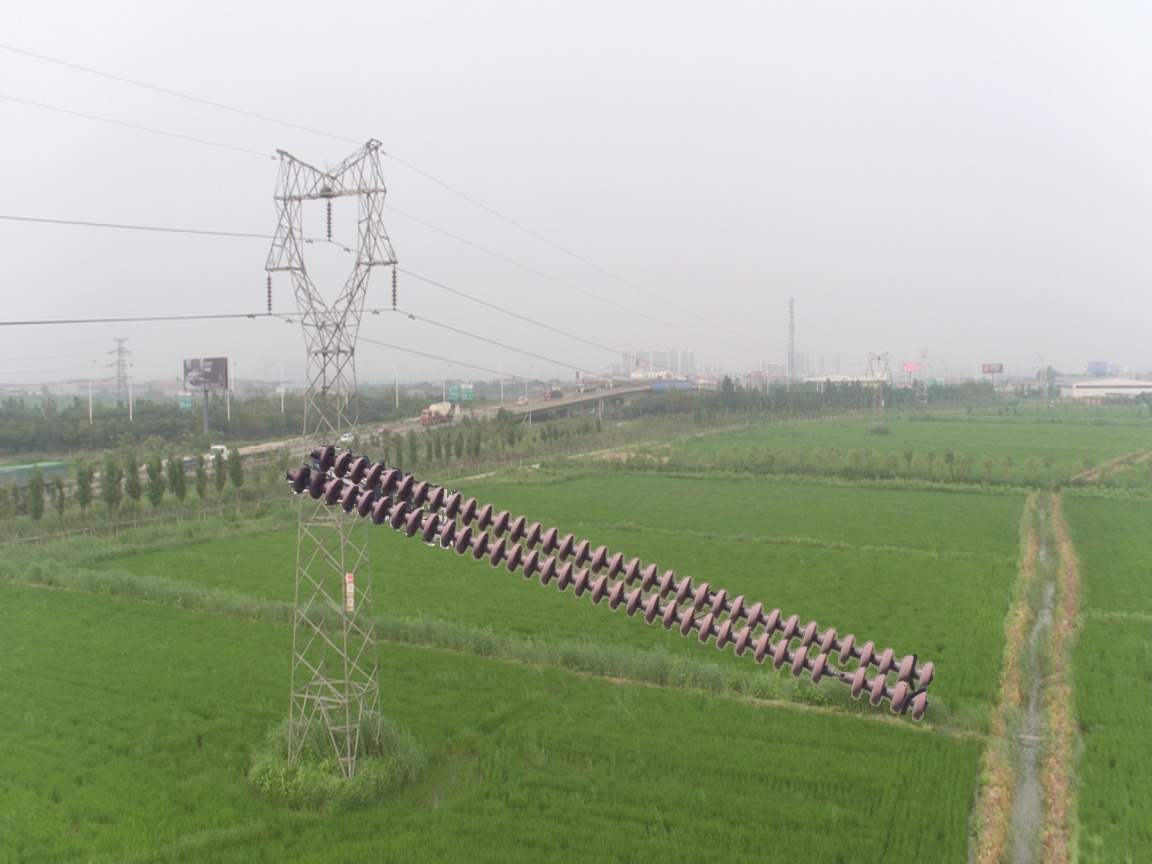defect: (809, 649, 873, 699)
